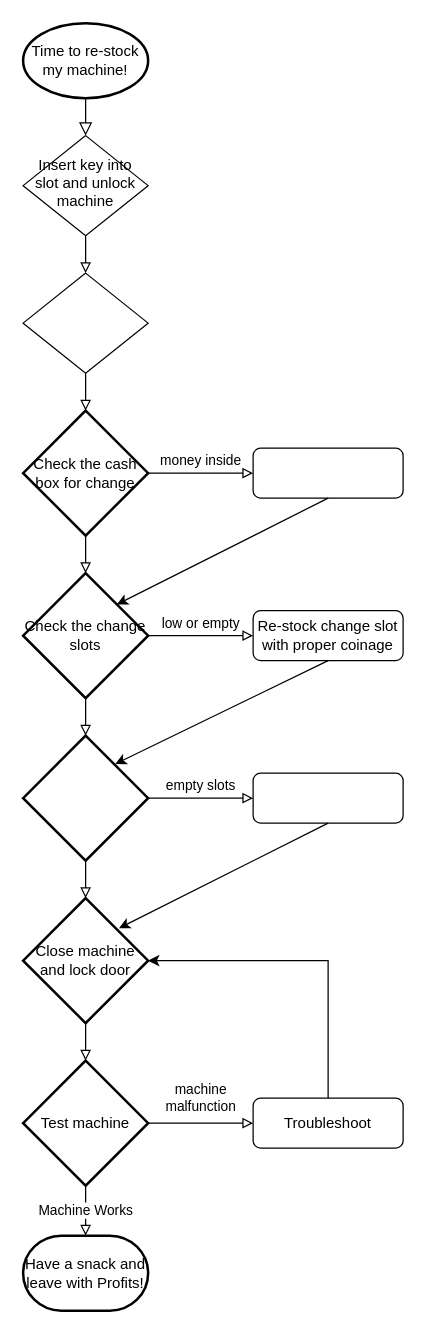
The diagram is 425 pixels wide and 1333 high, and some of its shapes have lost their labels. Each missing label, with the box of its shape:
Assess item selection: (21, 734, 149, 861)
Empty profits into your bin: (252, 447, 403, 498)
Open door to expose items and change box: (22, 272, 148, 373)
Re-stock with same or new items: (252, 772, 403, 823)
